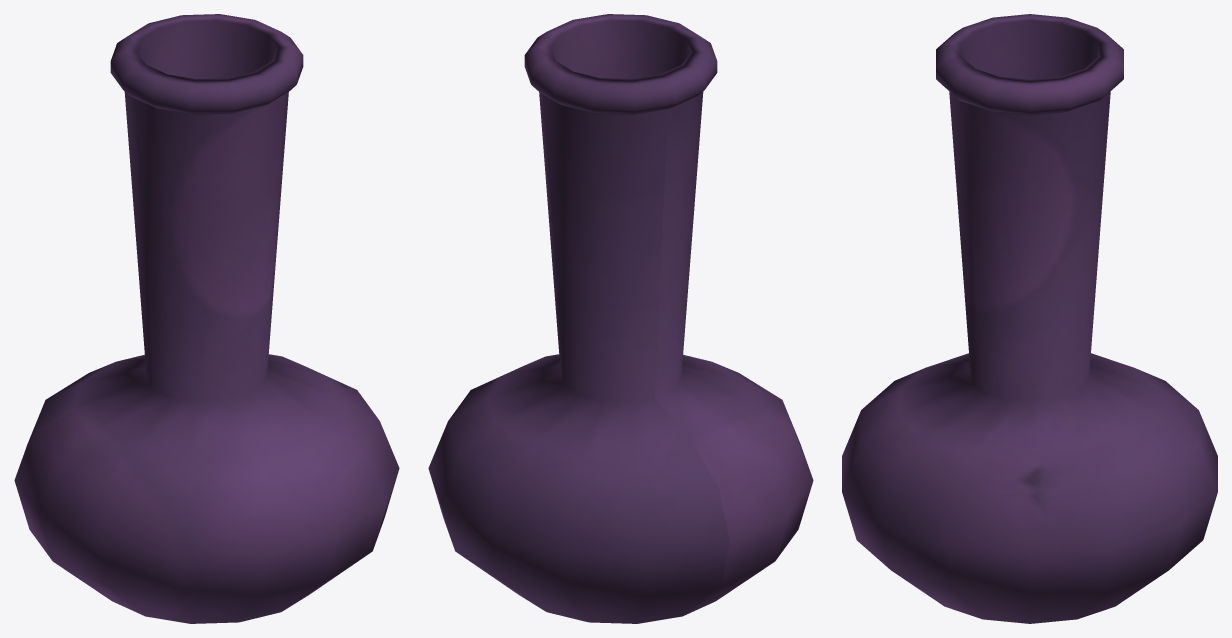
Rendered from pot1.fbx.
3 views of the same model, side by side, from view 1: azimuth 30°, elevation 25°; view 2: azimuth 150°, elevation 25°; view 3: azimuth 270°, elevation 25° (orthographic).
Parts seen in each view (by area): view 1: pot3; view 2: pot3; view 3: pot3.
Boxes of the visible parts, left/top/right/bottom form: pot3: left=14, top=14, right=399, bottom=623; pot3: left=428, top=14, right=813, bottom=623; pot3: left=842, top=14, right=1217, bottom=623.
Size of the model in its own units: 2.27 by 3.42 by 2.21.
